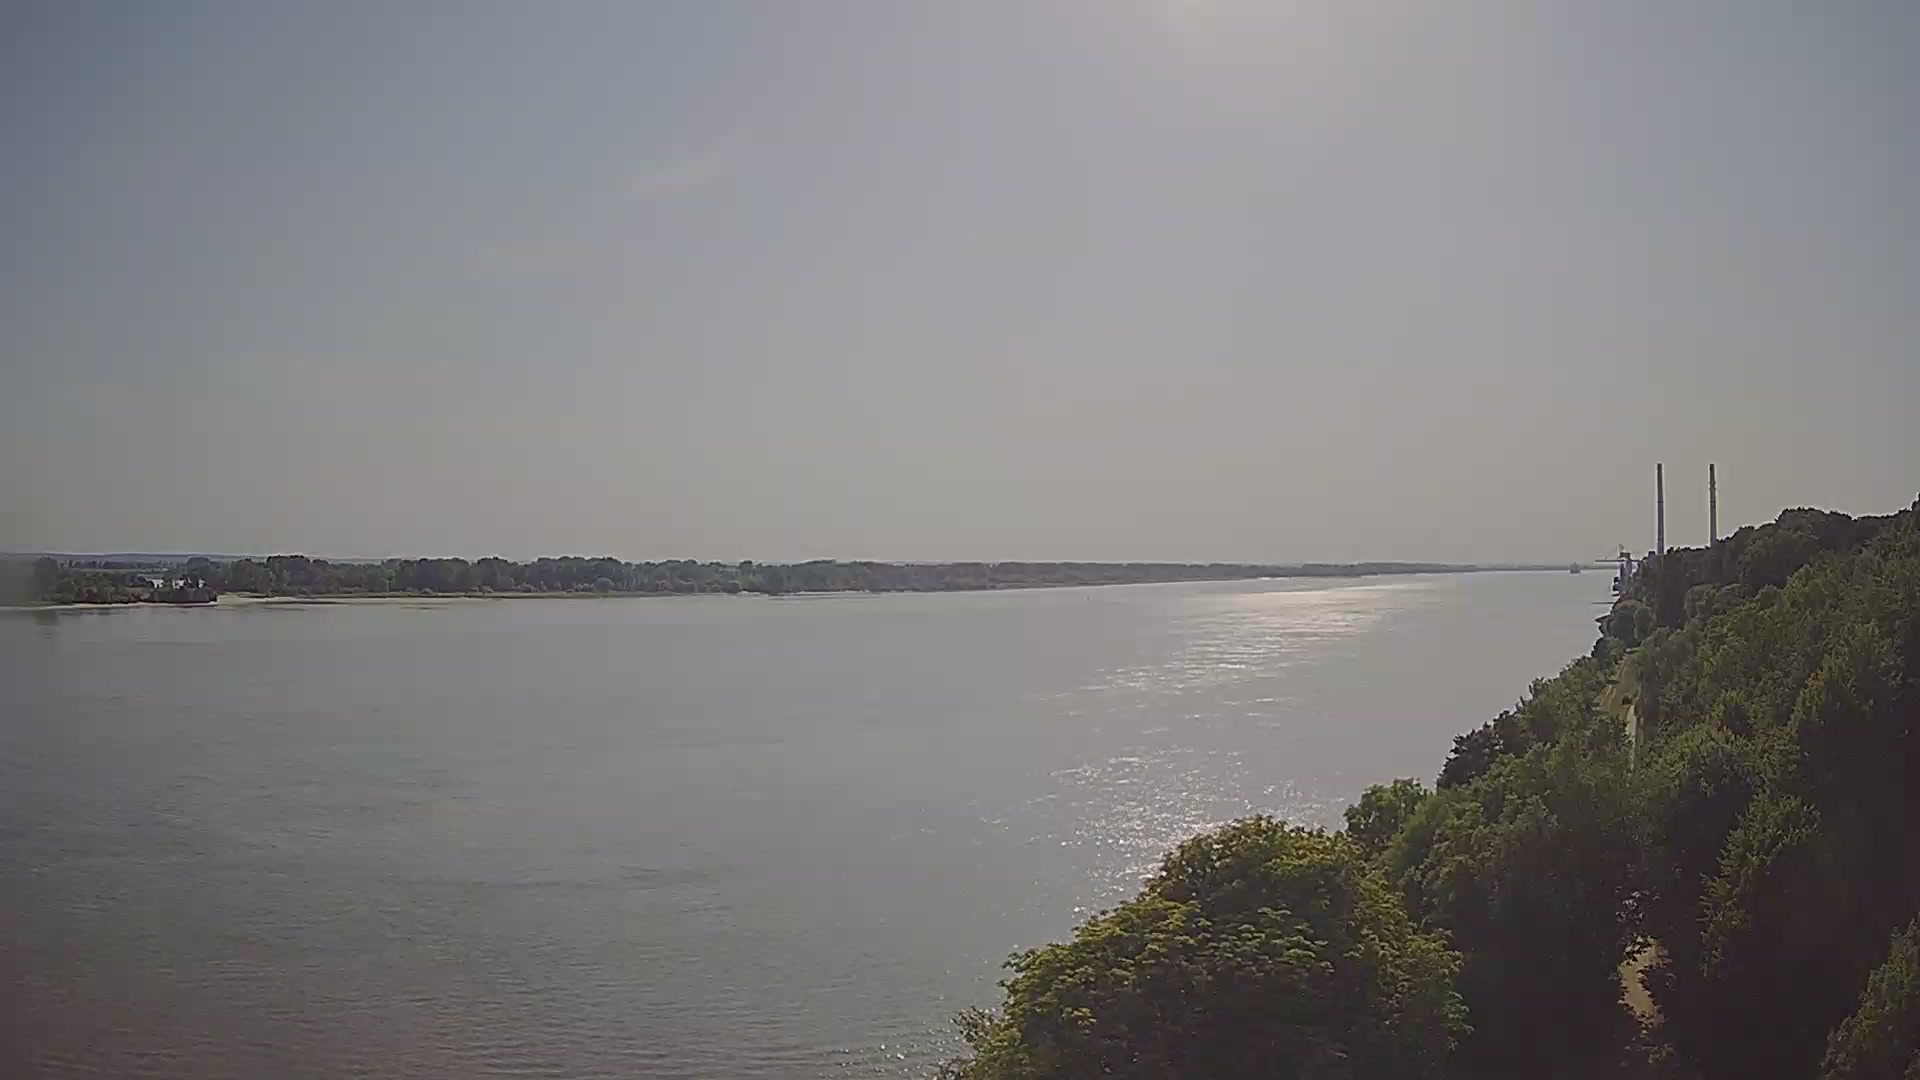sea: (1568, 560, 1581, 574)
